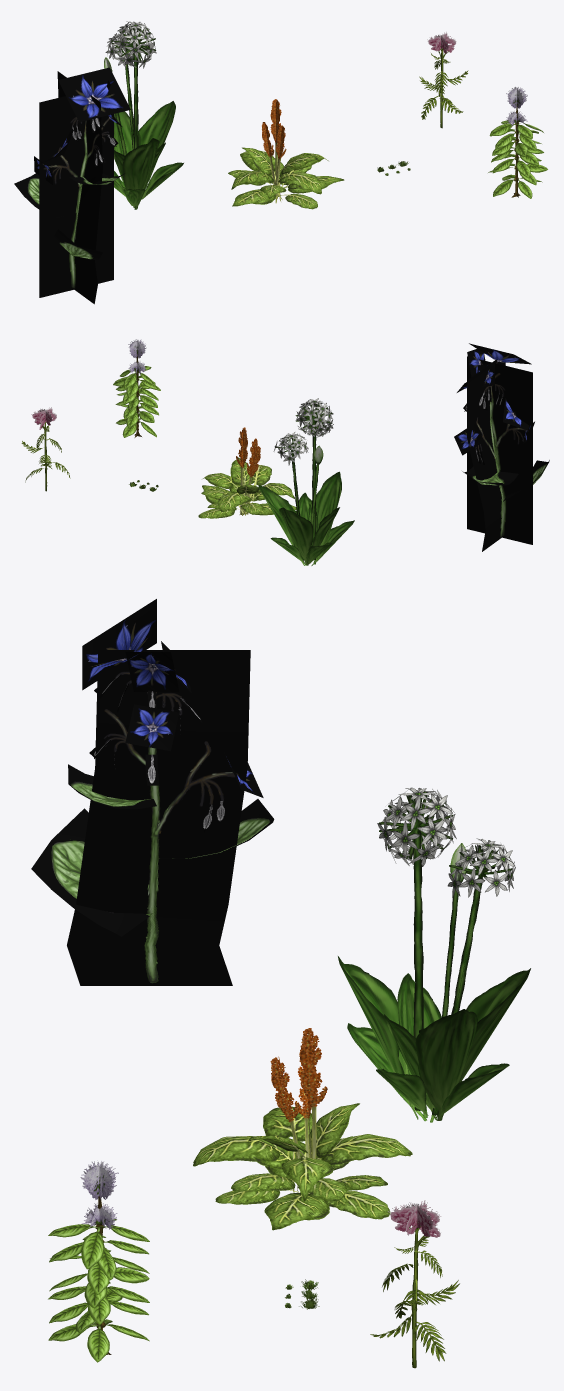
File: Flowers.fbx
3 views of the same model, one above another, from view 1: azimuth 30°, elevation 25°; view 2: azimuth 150°, elevation 25°; view 3: azimuth 270°, elevation 25° (orthographic). The views are drawn at different scales.
Visible parts, largest first — view 1: Object_4.001, Object_2.001, Object_2, Object_3, Object_4; view 2: Object_4.001, Object_2.001, Object_2, Object_3, Object_4; view 3: Object_4.001, Object_2.001, Object_2, Object_3, Object_4.
Part boxes in pixels (left/top/right/bottom): Object_4.001: left=14, top=67, right=130, bottom=304; Object_2.001: left=104, top=21, right=183, bottom=209; Object_2: left=228, top=99, right=344, bottom=209; Object_3: left=488, top=87, right=547, bottom=198; Object_4: left=419, top=32, right=468, bottom=128; Object_4.001: left=454, top=343, right=549, bottom=551; Object_2.001: left=258, top=398, right=354, bottom=565; Object_2: left=198, top=427, right=296, bottom=518; Object_3: left=113, top=339, right=160, bottom=437; Object_4: left=21, top=407, right=70, bottom=491; Object_4.001: left=31, top=599, right=274, bottom=985; Object_2.001: left=338, top=787, right=530, bottom=1122; Object_2: left=193, top=1028, right=412, bottom=1230; Object_3: left=48, top=1161, right=149, bottom=1362; Object_4: left=370, top=1200, right=459, bottom=1368.
Bounding box in the file's own units: 2954 × 1226 × 1426.
